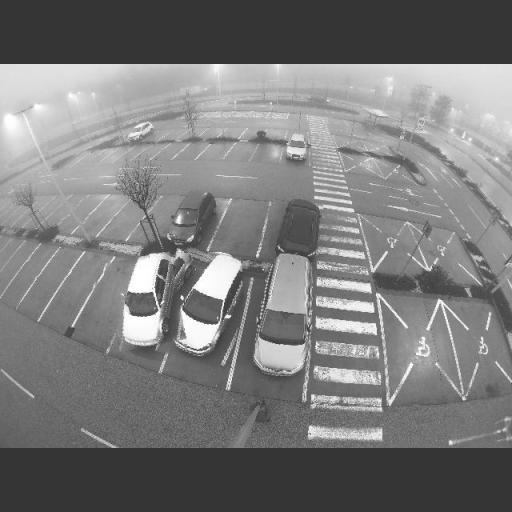busy: (160, 248, 248, 363), (242, 251, 318, 384), (106, 254, 182, 349), (268, 199, 322, 262), (162, 190, 218, 244), (281, 131, 311, 165), (126, 124, 152, 143)
free: (94, 278, 128, 322), (224, 215, 261, 244), (62, 272, 92, 298), (42, 265, 64, 292), (152, 198, 178, 220), (22, 258, 44, 280), (74, 198, 91, 224), (112, 214, 134, 234), (257, 146, 279, 162), (204, 146, 226, 160), (54, 204, 71, 222), (94, 207, 114, 222), (232, 146, 253, 160), (123, 147, 139, 162), (142, 142, 156, 159), (182, 146, 198, 158), (224, 128, 240, 139), (244, 130, 256, 140), (161, 150, 175, 158), (204, 131, 218, 138)
